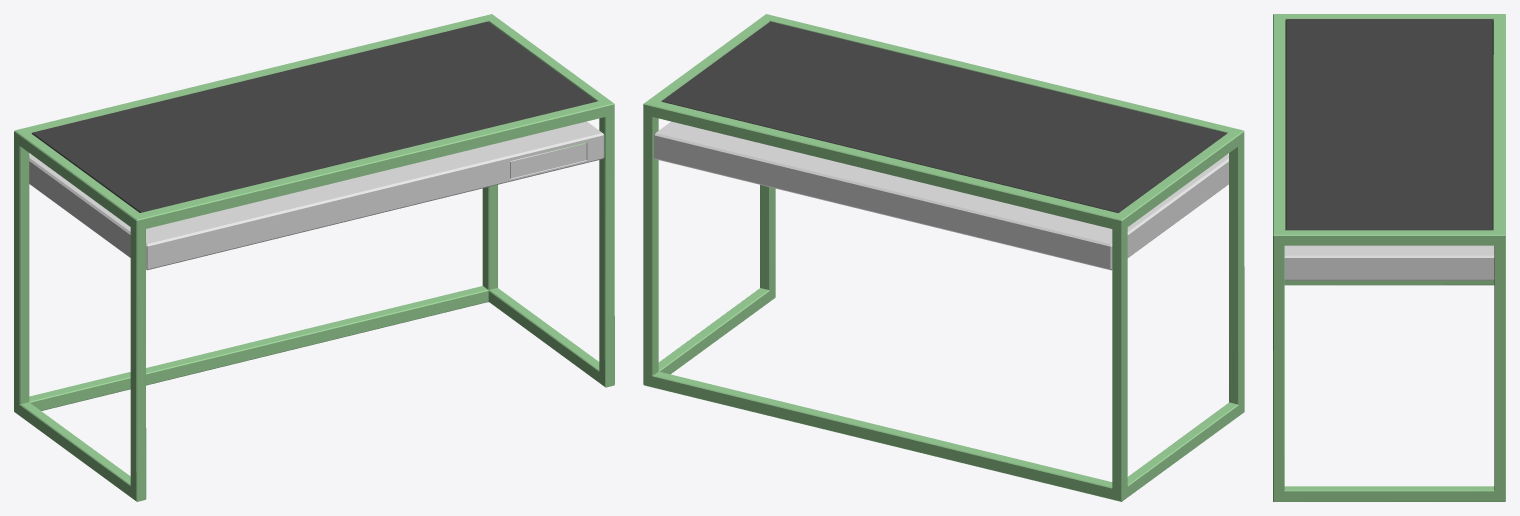
The picture shows the model from 3 angles, left to right: view 1: azimuth 30°, elevation 25°; view 2: azimuth 150°, elevation 25°; view 3: azimuth 270°, elevation 25°; orthographic projection. The views are drawn at different scales.
Visible parts, largest first — view 1: WT829; view 2: WT829; view 3: WT829.
Part boxes in pixels (x1,y1,x2,y2): WT829: (14,14,614,501); WT829: (643,14,1244,501); WT829: (1273,14,1505,501).
Size of the model in its own units: 135 by 60 by 76.
